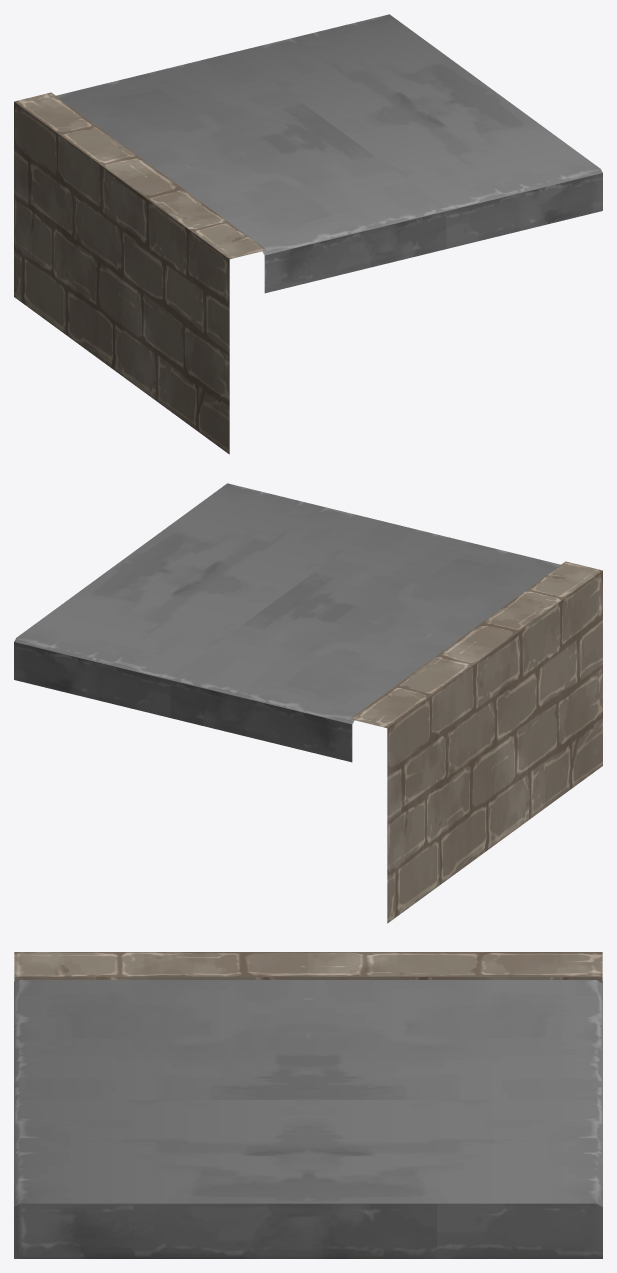
Rendered from stairs-exterior-sideplatform.glb.
The picture shows the model from 3 angles, top to bottom: view 1: azimuth 30°, elevation 25°; view 2: azimuth 150°, elevation 25°; view 3: azimuth 270°, elevation 25°; orthographic projection. The views are drawn at different scales.
Parts seen in each view (by area): view 1: Stairs_Exterior_SidePlatform; view 2: Stairs_Exterior_SidePlatform; view 3: Stairs_Exterior_SidePlatform.
Part boxes in pixels (box(x1,y1,x2,y2)): Stairs_Exterior_SidePlatform: box(14, 14, 602, 454); Stairs_Exterior_SidePlatform: box(14, 483, 602, 923); Stairs_Exterior_SidePlatform: box(14, 952, 602, 1258).
Bounding box in the file's own units: 2 × 1 × 2.
Materials: 2 (2 with a texture image).
